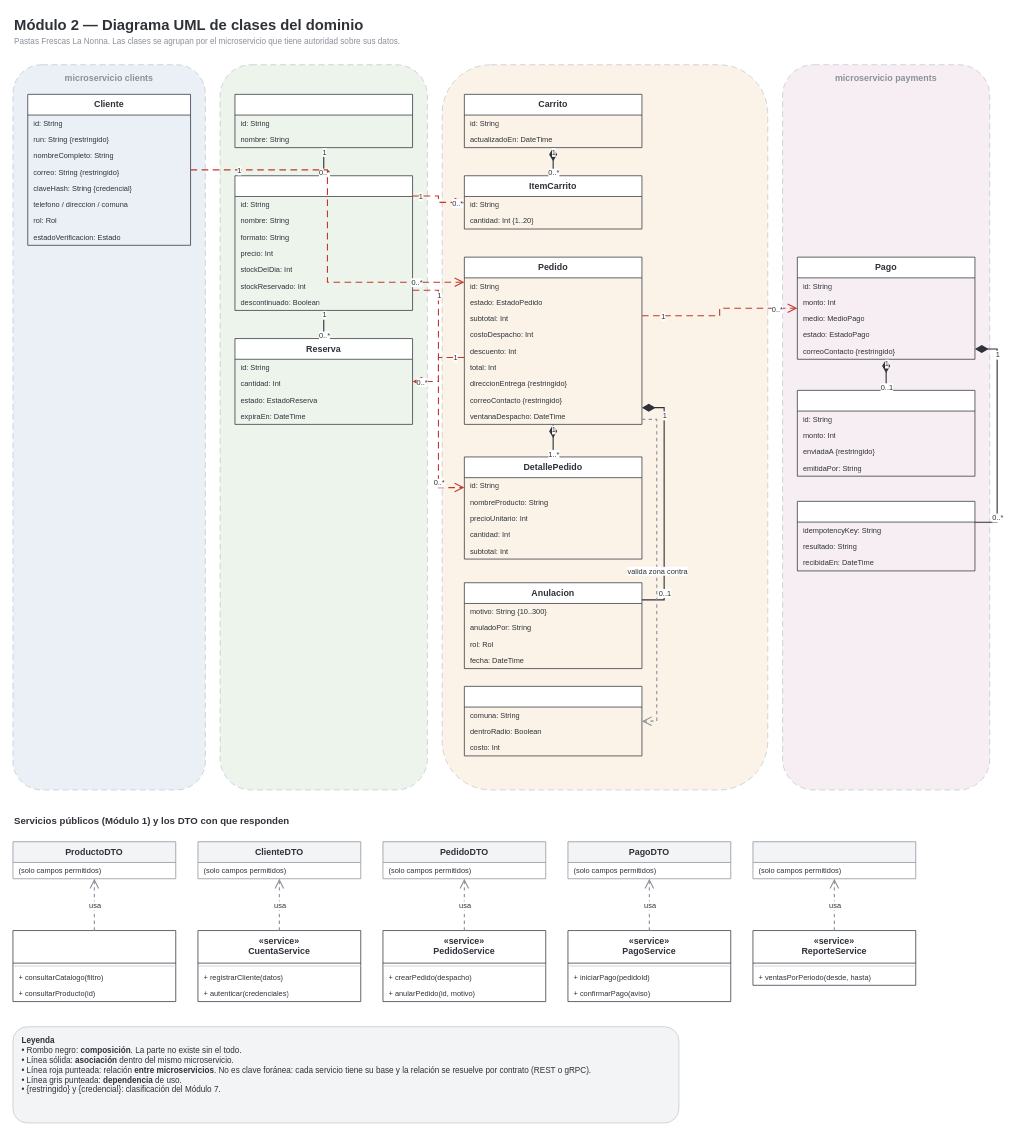
This 1023x1136 diagram has some shape labels left out. The box of each missing label's shape, as (x1, y1, x2, y2) in pixels:
Boleta: (797, 390, 975, 476)
Categoria: (234, 94, 413, 148)
ComunaDespacho: (464, 686, 642, 756)
microservicio inventory: (219, 64, 427, 790)
microservicio orders: (441, 64, 768, 790)
Notificacion: (797, 501, 975, 571)
Producto: (234, 175, 413, 310)
ReporteDTO: (752, 841, 916, 879)
«service» CatalogoService: (12, 930, 176, 1002)
